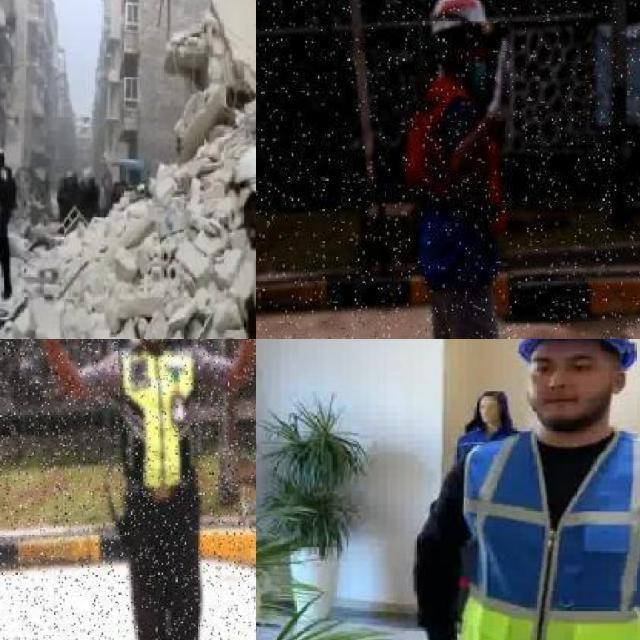apron: (488, 37, 516, 125)
